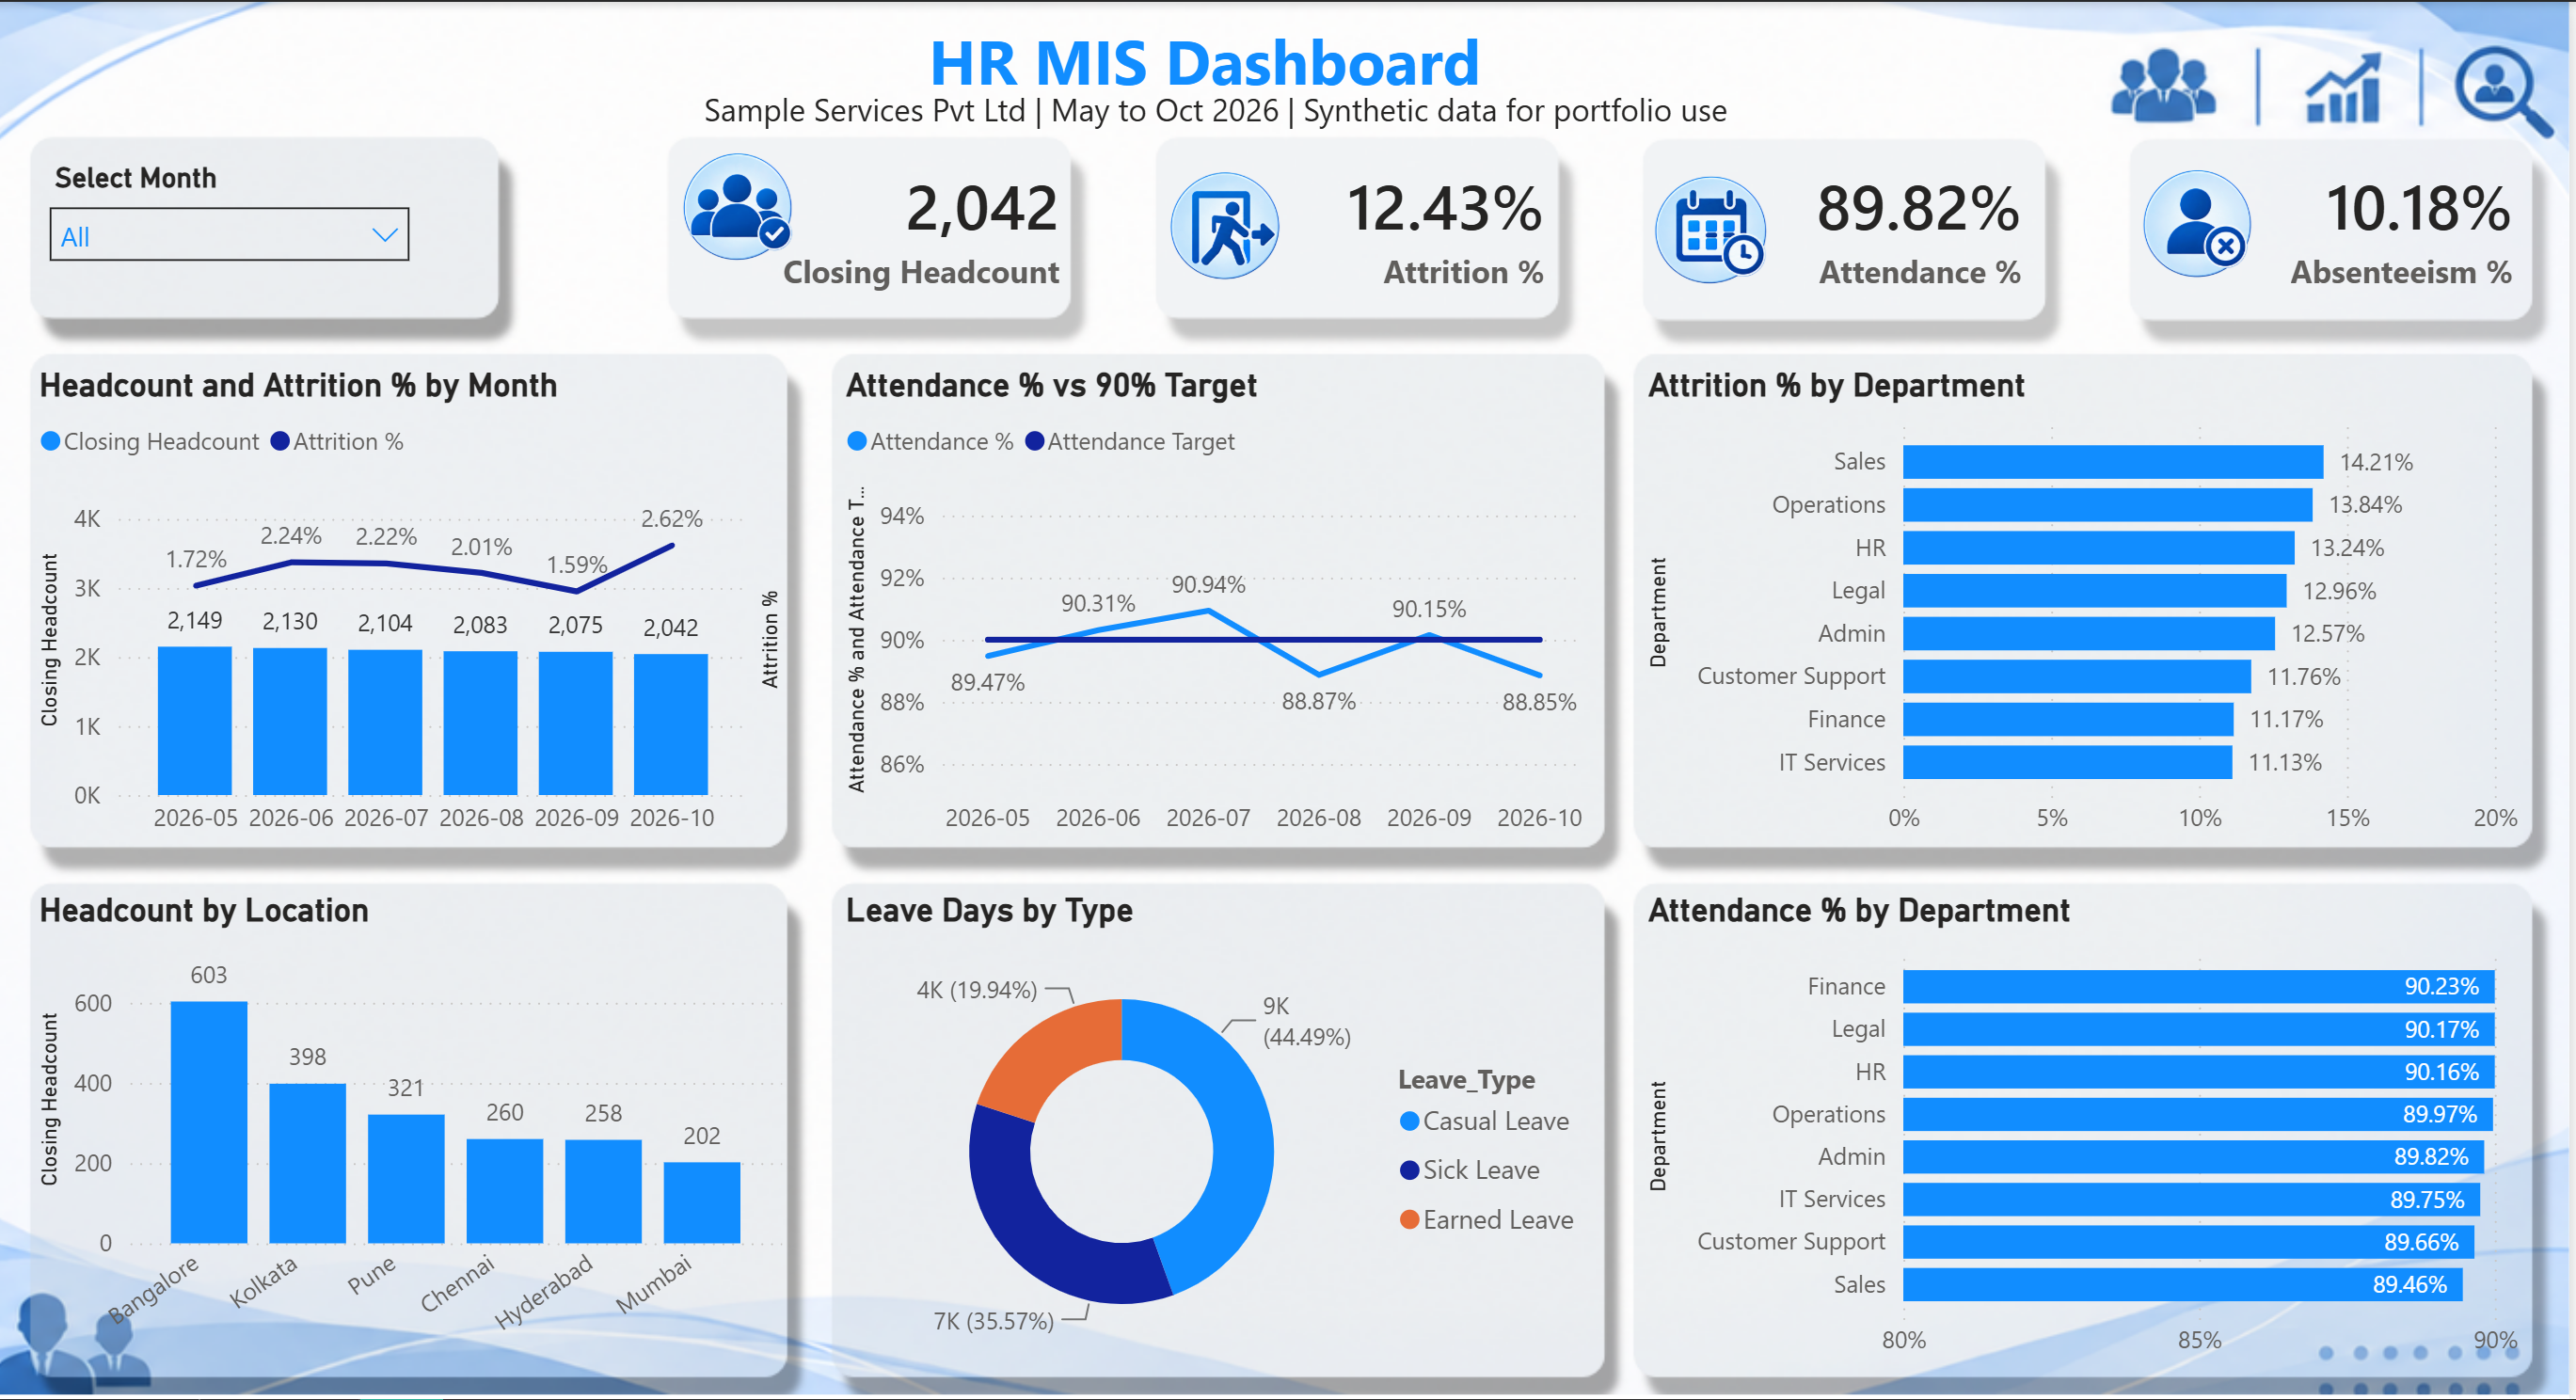

What the dashboard file says about the page in this screenshot:
{"tool":"powerbi","page":{"name":"Page 1","canvas":[1325,720],"ordinal":0},"visuals":[{"type":"cardVisual","fields":{"Data":["Master_Data.Closing Headcount"]},"box":[324.2,65.4,240.5,102],"z":0},{"type":"cardVisual","fields":{"Data":["Master_Data.Absenteeism %"]},"box":[1115,65.4,210,102],"z":1000},{"type":"cardVisual","fields":{"Data":["Master_Data.Attrition %"]},"box":[586,65.4,240.5,102],"z":2000},{"type":"cardVisual","fields":{"Data":["Master_Data.Attendance %"]},"box":[861.5,65.4,210,102],"z":3000},{"type":"lineClusteredColumnComboChart","title":"Headcount and Attrition % by Month","fields":{"Category":["Master_Data.Month_Key"],"Y":["Master_Data.Closing Headcount"],"Y2":["Master_Data.Attrition %"]},"box":[16.7,187.2,392.7,251.1],"z":4000},{"type":"lineChart","title":"Attendance % vs 90% Target","fields":{"Category":["Master_Data.Month_Key"],"Y":["Master_Data.Attendance %","Master_Data.Attendance Target"]},"box":[432.3,187.2,394.2,251.1],"z":5000},{"type":"clusteredBarChart","title":"Attrition % by Department","fields":{"Category":["Master_Data.Department"],"Y":["Master_Data.Attrition %"]},"box":[844.7,187.2,458.1,251.1],"z":6000},{"type":"columnChart","title":"\tHeadcount by Location","fields":{"Y":["Master_Data.Closing Headcount"],"Category":["Master_Data.Location"]},"box":[16.7,458.1,392.7,249.6],"z":7000},{"type":"donutChart","title":"Leave Days by Type","fields":{"Category":["Master_Data.Leave_Type"],"Y":["Sum(Master_Data.Leave_Days)"]},"box":[432.3,458.6,394.2,249.6],"z":8000},{"type":"clusteredBarChart","title":"\tAttendance % by Department","fields":{"Y":["Master_Data.Attendance %"],"Category":["Master_Data.Department"]},"box":[844.7,458.6,458.1,249.6],"z":9000},{"type":"slicer","fields":{"Values":["Master_Data.Month_Key"]},"box":[16.7,77.6,205.5,102],"z":10000},{"type":"image","box":[336.4,56.3,85.2,98.9],"z":10001},{"type":"image","box":[589,67,85.2,98.9],"z":10002},{"type":"image","box":[840.2,68.5,85.2,98.9],"z":10003},{"type":"image","box":[1094.3,65.4,85.2,98.9],"z":10004},{"type":"textbox","box":[474.9,3,309,65.4],"z":10005},{"type":"textbox","box":[359.2,39.6,566.2,38.1],"z":10006}]}

Visuals, with their boxes in screenshot pixels (x1, y1, x2, y2), scaled from the page's 1325x720 canvas onto the 2576x1400 screenshot:
cardVisual - Master_Data.Closing Headcount: detection(630, 127, 1098, 326)
cardVisual - Master_Data.Absenteeism %: detection(2168, 127, 2575, 326)
cardVisual - Master_Data.Attrition %: detection(1139, 127, 1607, 326)
cardVisual - Master_Data.Attendance %: detection(1675, 127, 2083, 326)
"Headcount and Attrition % by Month" lineClusteredColumnComboChart: detection(33, 364, 796, 852)
"Attendance % vs 90% Target" lineChart: detection(840, 364, 1607, 852)
"Attrition % by Department" clusteredBarChart: detection(1643, 364, 2533, 852)
"	Headcount by Location" columnChart: detection(33, 891, 796, 1376)
"Leave Days by Type" donutChart: detection(840, 892, 1607, 1377)
"	Attendance % by Department" clusteredBarChart: detection(1643, 892, 2533, 1377)
slicer - Master_Data.Month_Key: detection(33, 151, 432, 349)
image: detection(654, 109, 819, 302)
image: detection(1145, 130, 1311, 323)
image: detection(1633, 134, 1799, 326)
image: detection(2127, 127, 2293, 320)
textbox: detection(923, 6, 1524, 133)
textbox: detection(698, 77, 1799, 151)
